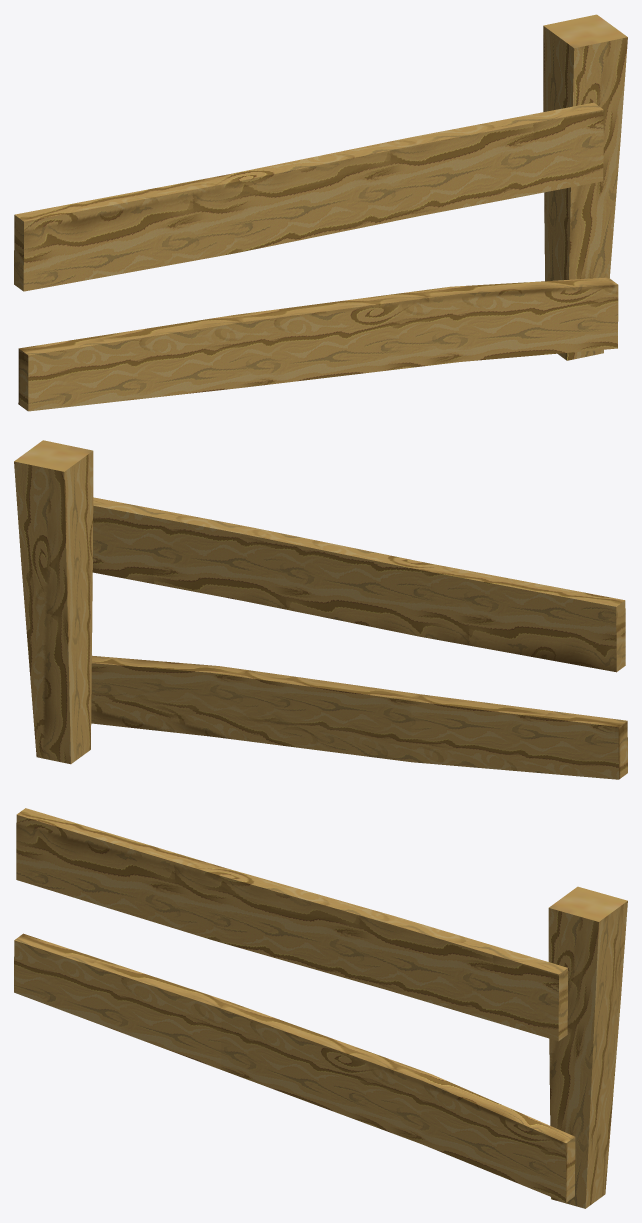
File: Fence_03.FBX
3 renders of one model, top to bottom at view 1: azimuth 30°, elevation 25°; view 2: azimuth 150°, elevation 25°; view 3: azimuth 330°, elevation 25°, orthographic. The views are drawn at different scales.
Parts seen in each view (by area): view 1: Fence_03; view 2: Fence_03; view 3: Fence_03.
Part boxes in pixels (left/top/right/bottom): Fence_03: left=14, top=14, right=627, bottom=411; Fence_03: left=14, top=440, right=627, bottom=779; Fence_03: left=14, top=808, right=627, bottom=1208.
Bounding box in the file's own units: 204 × 100 × 25.12.
